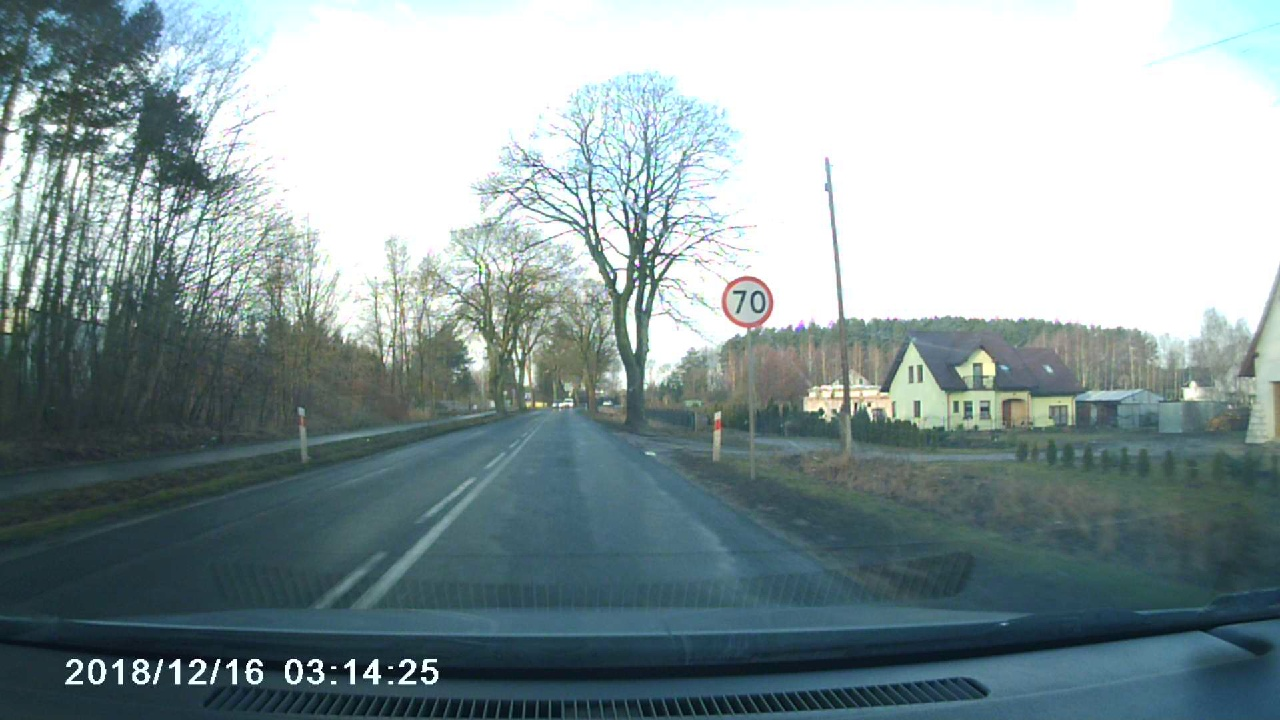B33_70: (720, 275, 774, 328)
